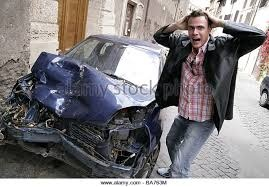Dent: (43, 93, 92, 119)
Smashed: (1, 53, 163, 176)
